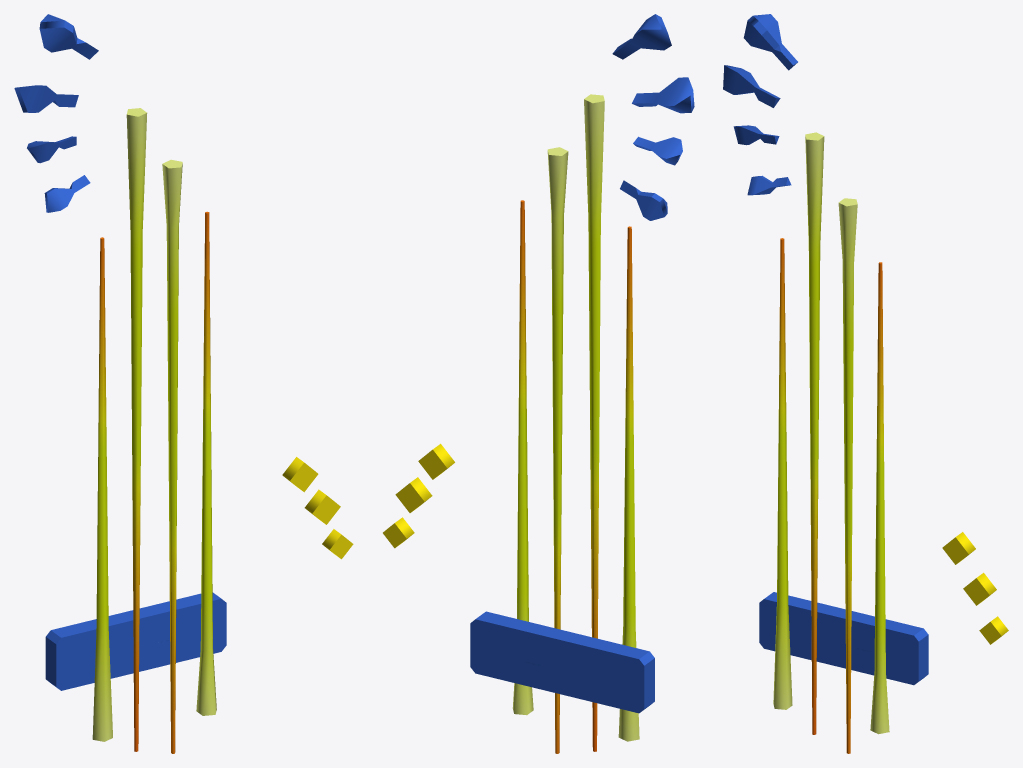
The model's file is instr_baixo.fbx.
The picture shows the model from 3 angles, left to right: view 1: azimuth 30°, elevation 25°; view 2: azimuth 150°, elevation 25°; view 3: azimuth 330°, elevation 25°; orthographic projection. The views are drawn at different scales.
Visible parts, largest first — view 1: instr_baixo; view 2: instr_baixo; view 3: instr_baixo.
Boxes of the visible parts, x1=… form: instr_baixo: x1=14, y1=14, x2=353, y2=753; instr_baixo: x1=383, y1=14, x2=694, y2=753; instr_baixo: x1=723, y1=14, x2=1008, y2=753.
Bounding box in the file's own units: 52.24 × 119 × 8.63.
1 material, 1 textured.
